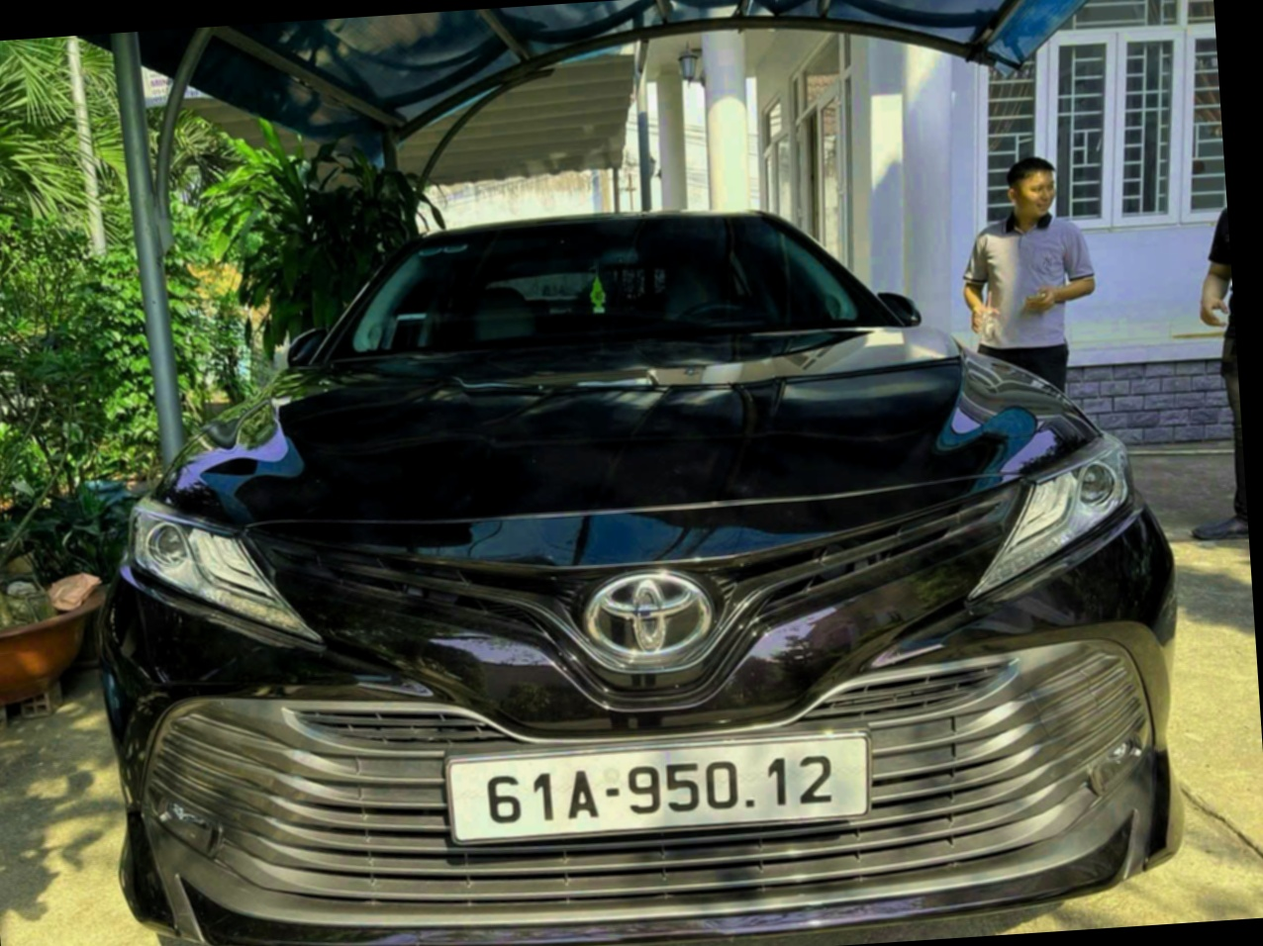Bien-so: (465, 693, 886, 829)
